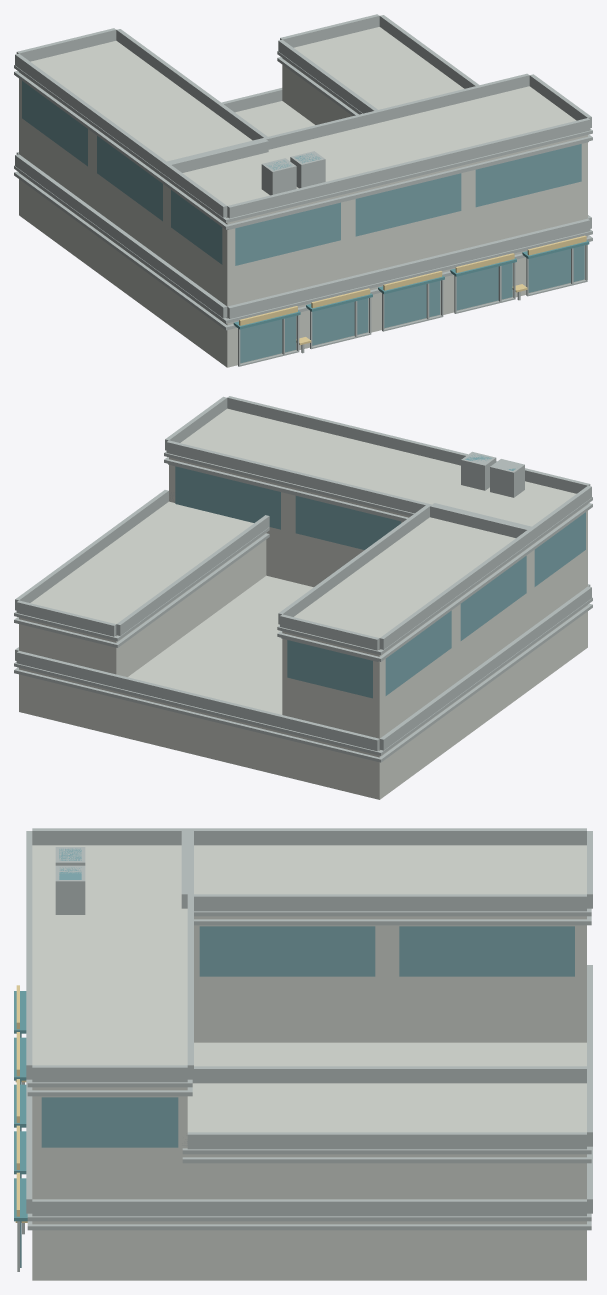
The model's file is commercial_3x3_court.glb.
3 views of the same model, one above another, from view 1: azimuth 30°, elevation 25°; view 2: azimuth 150°, elevation 25°; view 3: azimuth 270°, elevation 25° (orthographic). The views are drawn at different scales.
Parts seen in each view (by area): view 1: commercial_3x3_court_0; view 2: commercial_3x3_court_0; view 3: commercial_3x3_court_0.
Boxes of the visible parts, bbox=[...] form: commercial_3x3_court_0: bbox=[14, 14, 592, 367]; commercial_3x3_court_0: bbox=[14, 396, 592, 799]; commercial_3x3_court_0: bbox=[14, 828, 592, 1280].
Bounding box in the file's own units: 23 × 10.5 × 23.5.
